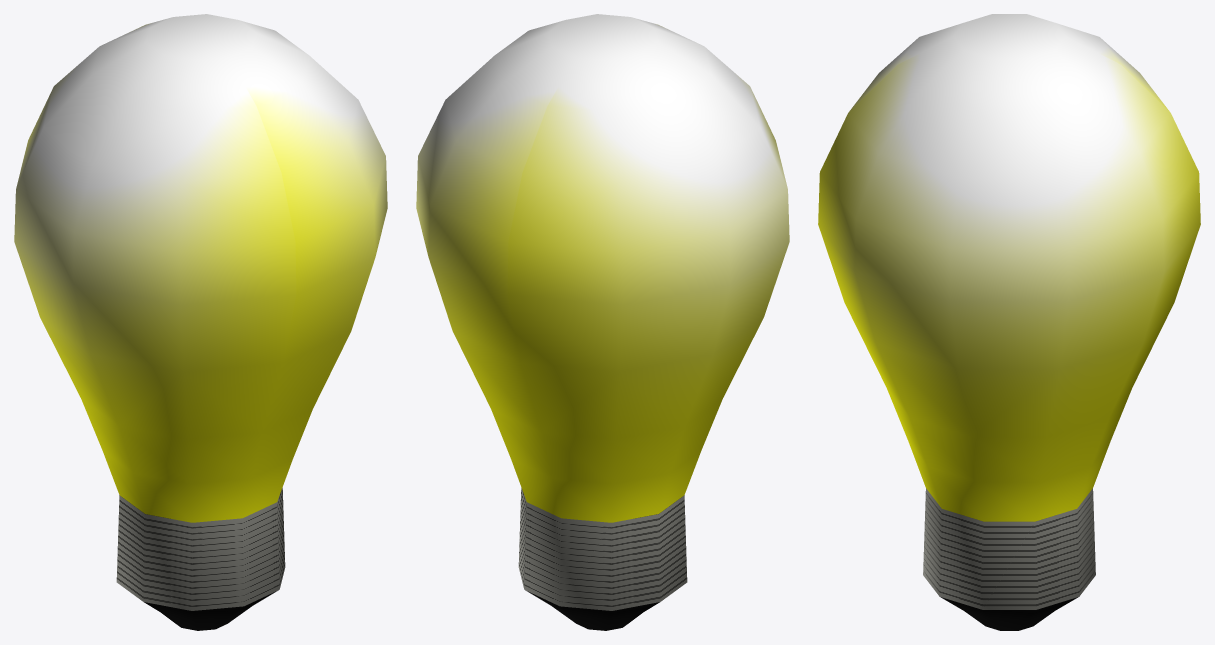
File: LampBulbCC3.0V2.fbx
3 renders of one model, left to right at view 1: azimuth 30°, elevation 25°; view 2: azimuth 150°, elevation 25°; view 3: azimuth 270°, elevation 25°, orthographic.
Parts seen in each view (by area): view 1: light_bulb; view 2: light_bulb; view 3: light_bulb.
Part boxes in pixels (left/top/right/bottom): light_bulb: left=14, top=14, right=387, bottom=630; light_bulb: left=416, top=14, right=789, bottom=630; light_bulb: left=818, top=14, right=1200, bottom=630.
Bounding box in the file's own units: 106 × 187 × 111.
